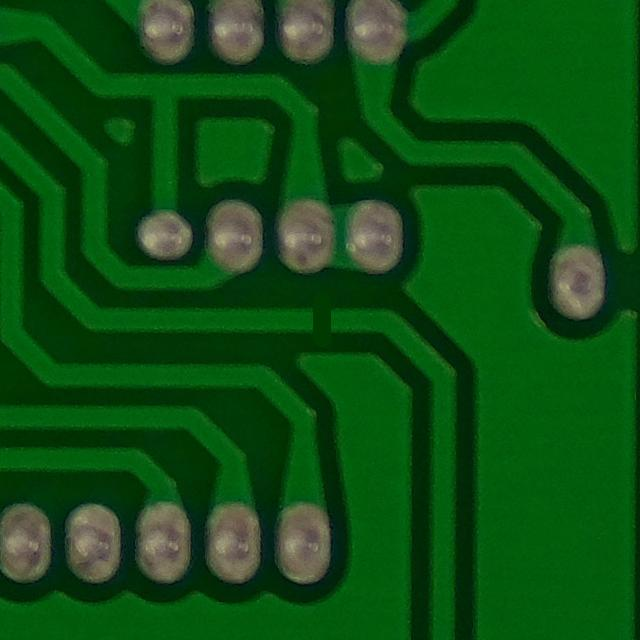open_circuit: (296, 296, 345, 344)
